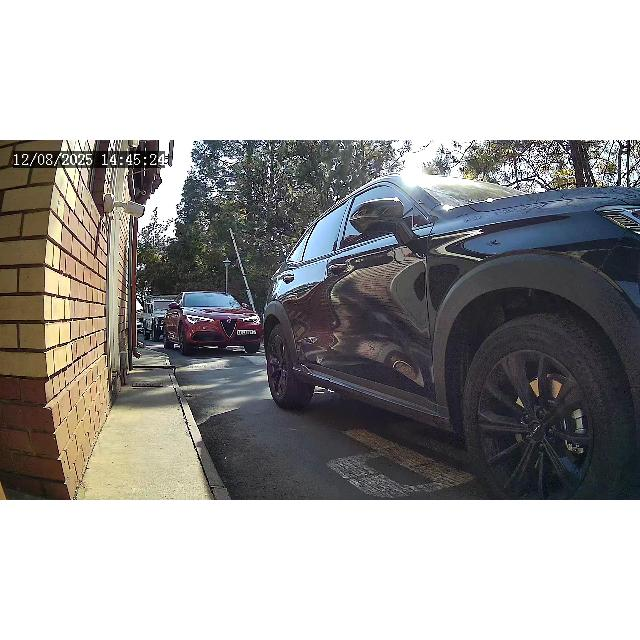car: (261, 172, 639, 500), (163, 292, 263, 356)
plate: (236, 330, 256, 336)
